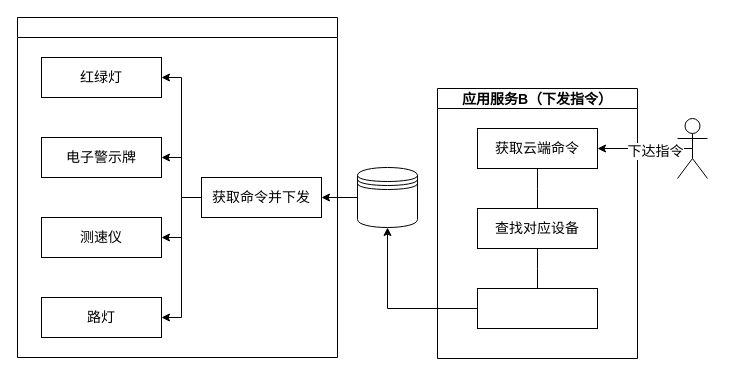
Image size: 752x376. Some labels were removed from this diagram. Each missing label, with the box of its shape:
core-command: (356, 166, 418, 228)
交通调度人员: (676, 118, 708, 178)
传达指令: (476, 288, 598, 328)
设备服务B（接受交通调控）: (16, 16, 338, 358)
